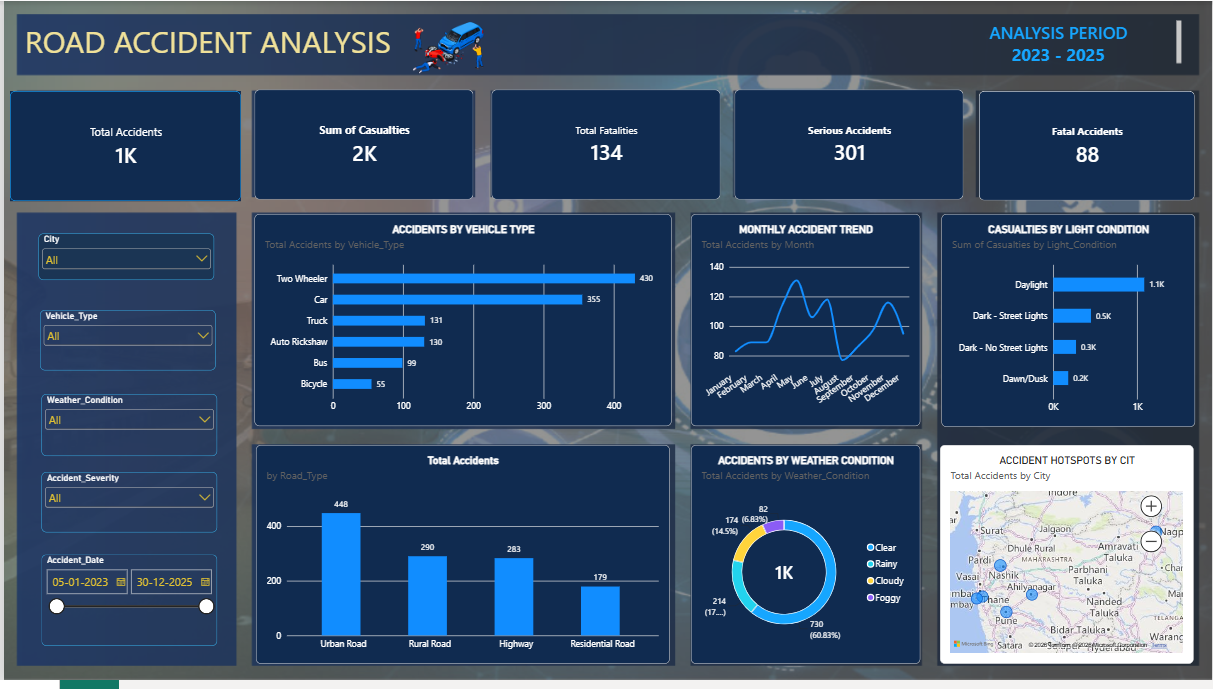

This screenshot's page, from the dashboard's own definition file:
{"tool":"powerbi","page":{"name":"Page 1","canvas":[1920,1080],"ordinal":0},"visuals":[{"type":"textbox","box":[10,0,280,280],"z":0},{"type":"textbox","box":[33.4,31,1202.5,85.9],"z":1},{"type":"slicer","fields":{"Values":["Road_Accident_Analysis_Dataset.City"]},"box":[54.9,369.8,279.6,74],"z":2},{"type":"slicer","fields":{"Values":["Road_Accident_Analysis_Dataset.Vehicle_Type"]},"box":[57.3,491.5,279.6,96],"z":3},{"type":"slicer","fields":{"Values":["Road_Accident_Analysis_Dataset.Weather_Condition"]},"box":[59.6,625.1,279.6,98.7],"z":4},{"type":"slicer","fields":{"Values":["Road_Accident_Analysis_Dataset.Accident_Severity"]},"box":[59.6,749.2,279.6,96],"z":5},{"type":"slicer","fields":{"Values":["Road_Accident_Analysis_Dataset.Accident_Date"]},"box":[59.6,880.4,279,145],"z":6},{"type":"cardVisual","fields":{"Data":["Road_Accident_Analysis_Dataset.Total Accidents"]},"box":[9.5,143.2,367.4,175.5],"z":7},{"type":"cardVisual","fields":{"Data":["Sum(Road_Accident_Analysis_Dataset.Casualties)"]},"box":[397.5,139.8,348.2,175.5],"z":8},{"type":"cardVisual","fields":{"Data":["Road_Accident_Analysis_Dataset.Total Fatalities"]},"box":[775.9,139.8,364.6,175.5],"z":9},{"type":"cardVisual","fields":{"Data":["Road_Accident_Analysis_Dataset.Serious Accidents"]},"box":[1162.4,139.8,364.6,175.5],"z":10},{"type":"cardVisual","fields":{"Data":["Road_Accident_Analysis_Dataset.Fatal Accidents"]},"box":[1550.8,143.2,343.6,174.2],"z":11},{"type":"clusteredBarChart","title":"ACCIDENTS BY VEHICLE TYPE","fields":{"Category":["Road_Accident_Analysis_Dataset.Vehicle_Type"],"Y":["Road_Accident_Analysis_Dataset.Total Accidents"]},"box":[397.5,340,663.5,337.2],"z":12},{"type":"lineChart","title":"MONTHLY ACCIDENT TREND","fields":{"Category":["Road_Accident_Analysis_Dataset.Accident_Date.Variation.Date Hierarchy.Month"],"Y":["Road_Accident_Analysis_Dataset.Total Accidents"]},"box":[1093.9,340,364.6,337.2],"z":13},{"type":"donutChart","title":"ACCIDENTS BY WEATHER CONDITION","fields":{"Category":["Road_Accident_Analysis_Dataset.Weather_Condition"],"Y":["Road_Accident_Analysis_Dataset.Total Accidents"]},"box":[1093.9,707.3,364.6,348.2],"z":14},{"type":"clusteredColumnChart","fields":{"Category":["Road_Accident_Analysis_Dataset.Road_Type"],"Y":["Road_Accident_Analysis_Dataset.Total Accidents"]},"box":[400.3,707.3,658,348.2],"z":15},{"type":"clusteredBarChart","title":"CASUALTIES BY LIGHT CONDITION","fields":{"Category":["Road_Accident_Analysis_Dataset.Weather & Light Condition.Light_Condition"],"Y":["Sum(Road_Accident_Analysis_Dataset.Casualties)"]},"box":[1491.2,338.8,403.2,338.8],"z":16},{"type":"map","title":"ACCIDENT HOTSPOTS BY CIT","fields":{"Category":["Road_Accident_Analysis_Dataset.City"],"Size":["Road_Accident_Analysis_Dataset.Total Accidents"]},"box":[1489,707,403,348],"z":17},{"type":"textbox","box":[1488.8,31,384.1,69.2],"z":18},{"type":"image","box":[610.8,31,190.9,85.9],"z":19}]}

Visuals, with their boxes in screenshot pixels (x1, y1, x2, y2), scaled from the page's 1920x1080 canvas onto the 1213x689 screenshot:
textbox: {"left": 6, "top": 0, "right": 183, "bottom": 179}
textbox: {"left": 21, "top": 20, "right": 781, "bottom": 75}
slicer - Road_Accident_Analysis_Dataset.City: {"left": 35, "top": 236, "right": 211, "bottom": 283}
slicer - Road_Accident_Analysis_Dataset.Vehicle_Type: {"left": 36, "top": 314, "right": 213, "bottom": 375}
slicer - Road_Accident_Analysis_Dataset.Weather_Condition: {"left": 38, "top": 399, "right": 214, "bottom": 462}
slicer - Road_Accident_Analysis_Dataset.Accident_Severity: {"left": 38, "top": 478, "right": 214, "bottom": 539}
slicer - Road_Accident_Analysis_Dataset.Accident_Date: {"left": 38, "top": 562, "right": 214, "bottom": 654}
cardVisual - Road_Accident_Analysis_Dataset.Total Accidents: {"left": 6, "top": 91, "right": 238, "bottom": 203}
cardVisual - Sum(Road_Accident_Analysis_Dataset.Casualties): {"left": 251, "top": 89, "right": 471, "bottom": 201}
cardVisual - Road_Accident_Analysis_Dataset.Total Fatalities: {"left": 490, "top": 89, "right": 721, "bottom": 201}
cardVisual - Road_Accident_Analysis_Dataset.Serious Accidents: {"left": 734, "top": 89, "right": 965, "bottom": 201}
cardVisual - Road_Accident_Analysis_Dataset.Fatal Accidents: {"left": 980, "top": 91, "right": 1197, "bottom": 202}
"ACCIDENTS BY VEHICLE TYPE" clusteredBarChart: {"left": 251, "top": 217, "right": 670, "bottom": 432}
"MONTHLY ACCIDENT TREND" lineChart: {"left": 691, "top": 217, "right": 921, "bottom": 432}
"ACCIDENTS BY WEATHER CONDITION" donutChart: {"left": 691, "top": 451, "right": 921, "bottom": 673}
clusteredColumnChart - Road_Accident_Analysis_Dataset.Road_Type x Road_Accident_Analysis_Dataset.Total Accidents: {"left": 253, "top": 451, "right": 669, "bottom": 673}
"CASUALTIES BY LIGHT CONDITION" clusteredBarChart: {"left": 942, "top": 216, "right": 1197, "bottom": 432}
"ACCIDENT HOTSPOTS BY CIT" map: {"left": 941, "top": 451, "right": 1195, "bottom": 673}
textbox: {"left": 941, "top": 20, "right": 1183, "bottom": 64}
image: {"left": 386, "top": 20, "right": 506, "bottom": 75}
